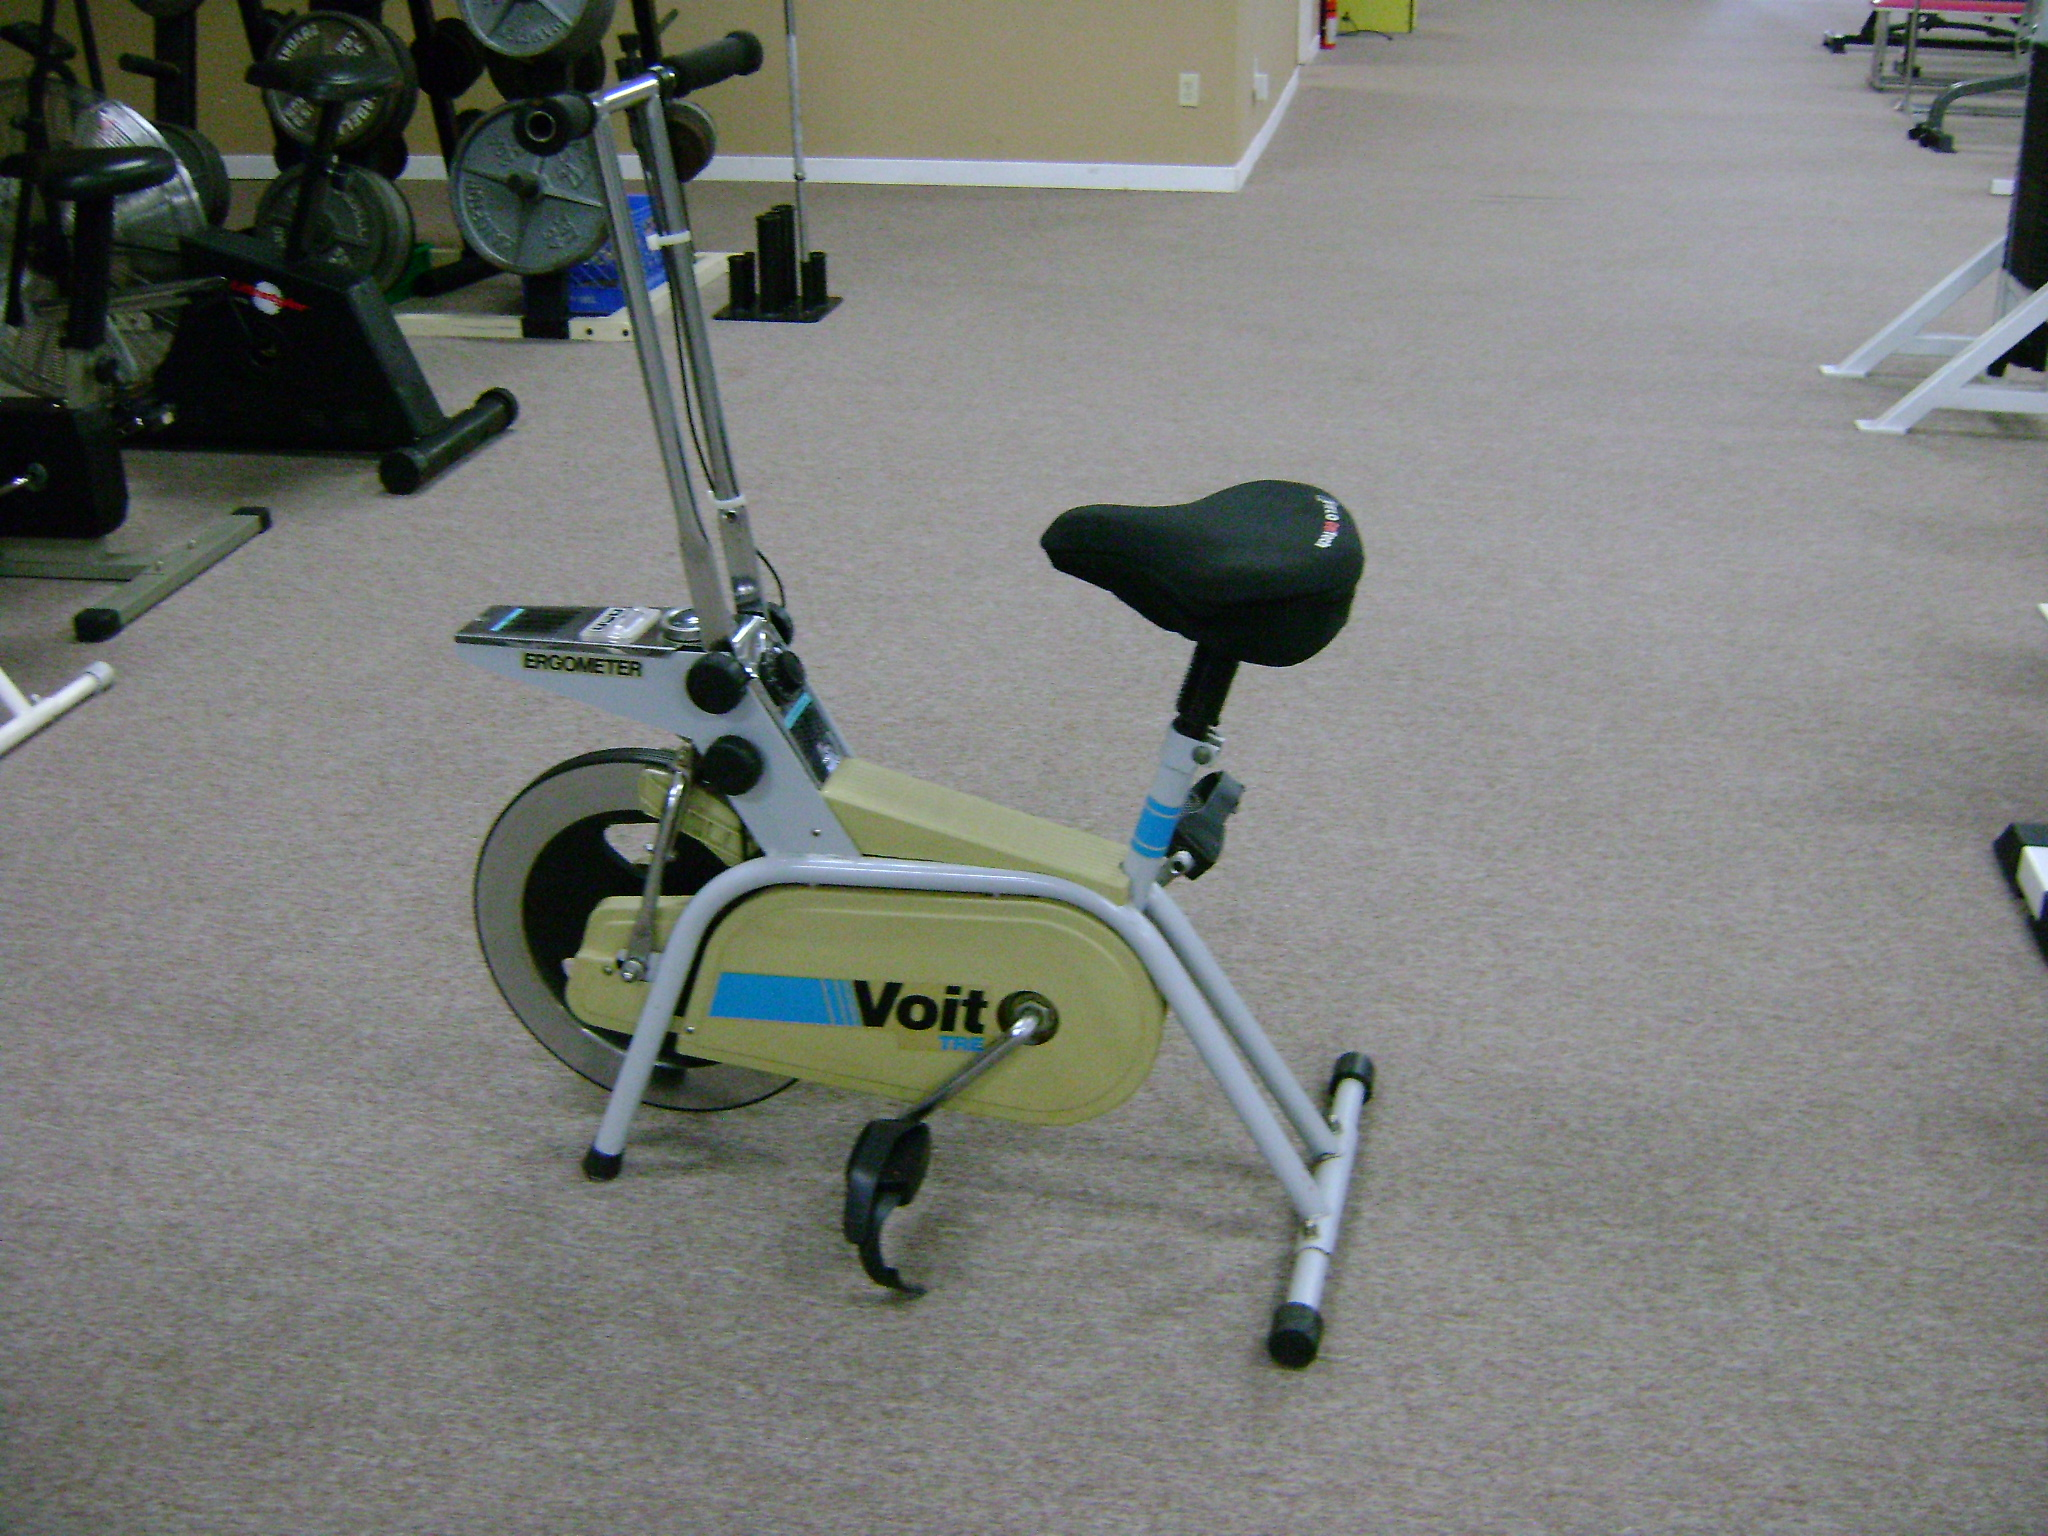gym_bike: (421, 74, 1463, 1412)
